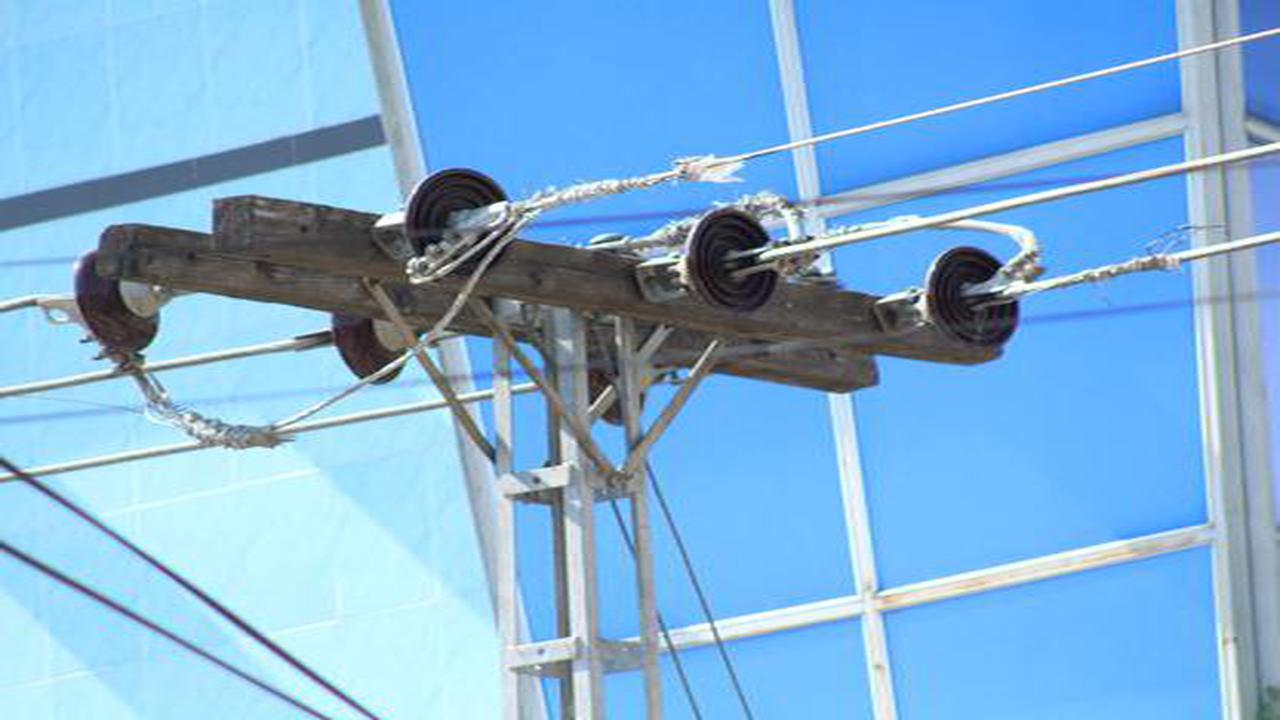insulator_disc: (401, 167, 521, 278), (919, 242, 1026, 357), (685, 210, 787, 318), (73, 252, 168, 364), (327, 306, 420, 383)
